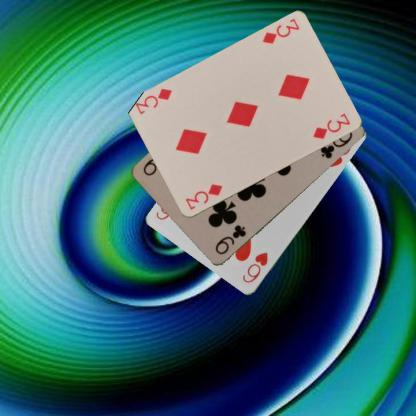3d: (182, 182, 224, 212), (259, 16, 301, 46)
6h: (240, 250, 269, 284)
9c: (212, 222, 247, 256)
